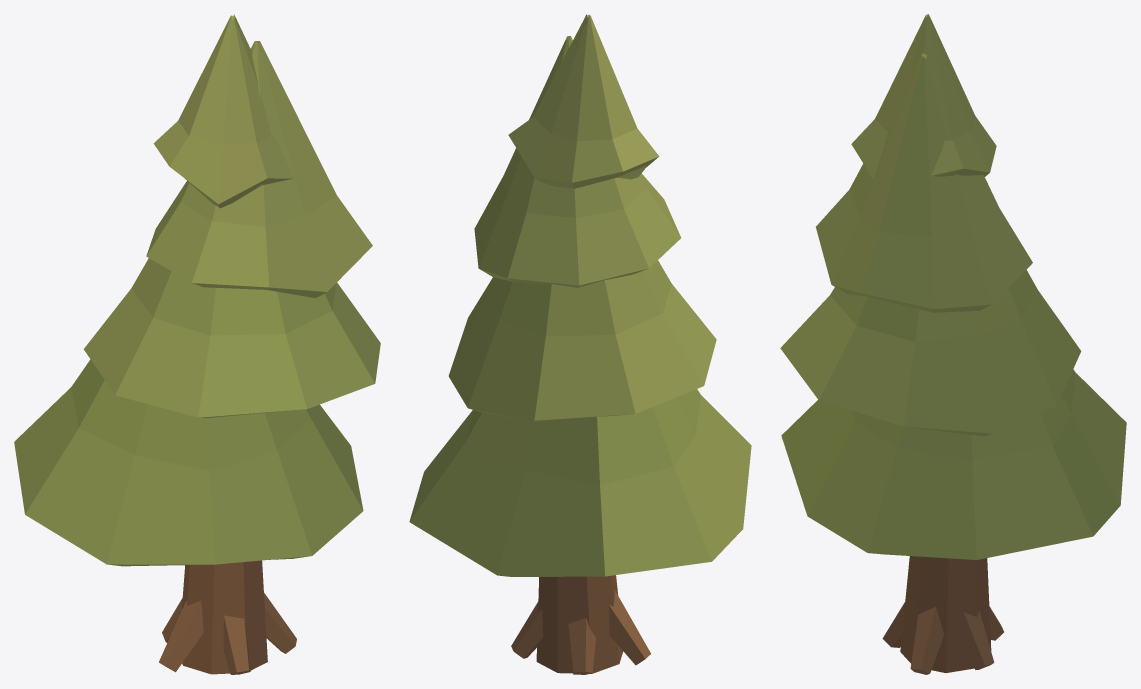
Rendered from forage_4_summer.glb.
The picture shows the model from 3 angles, left to right: view 1: azimuth 30°, elevation 25°; view 2: azimuth 150°, elevation 25°; view 3: azimuth 270°, elevation 25°; orthographic projection. The views are drawn at different scales.
Visible parts, largest first — view 1: Rohstoff 4 · summer; view 2: Rohstoff 4 · summer; view 3: Rohstoff 4 · summer.
Boxes of the visible parts, box(x1,y1,x2,y2) form: Rohstoff 4 · summer: box(14, 14, 380, 674); Rohstoff 4 · summer: box(409, 14, 751, 674); Rohstoff 4 · summer: box(780, 14, 1126, 674).
Bounding box in the file's own units: 2.48 × 4.96 × 2.43.
